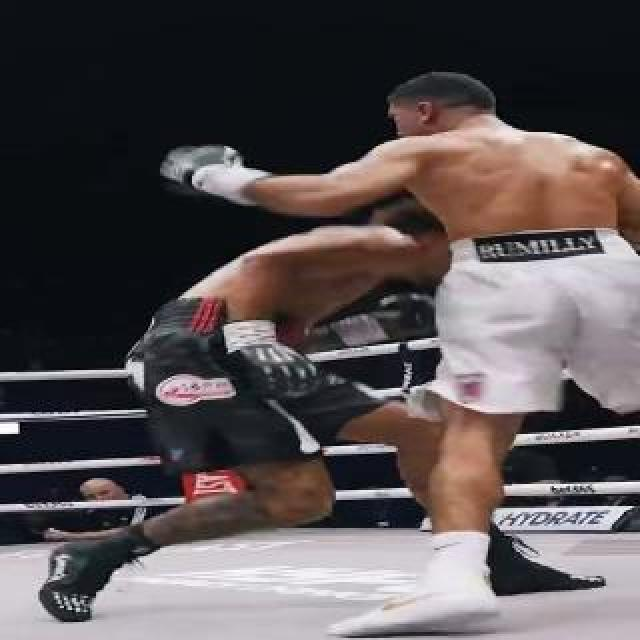fight: (50, 32, 640, 640)
